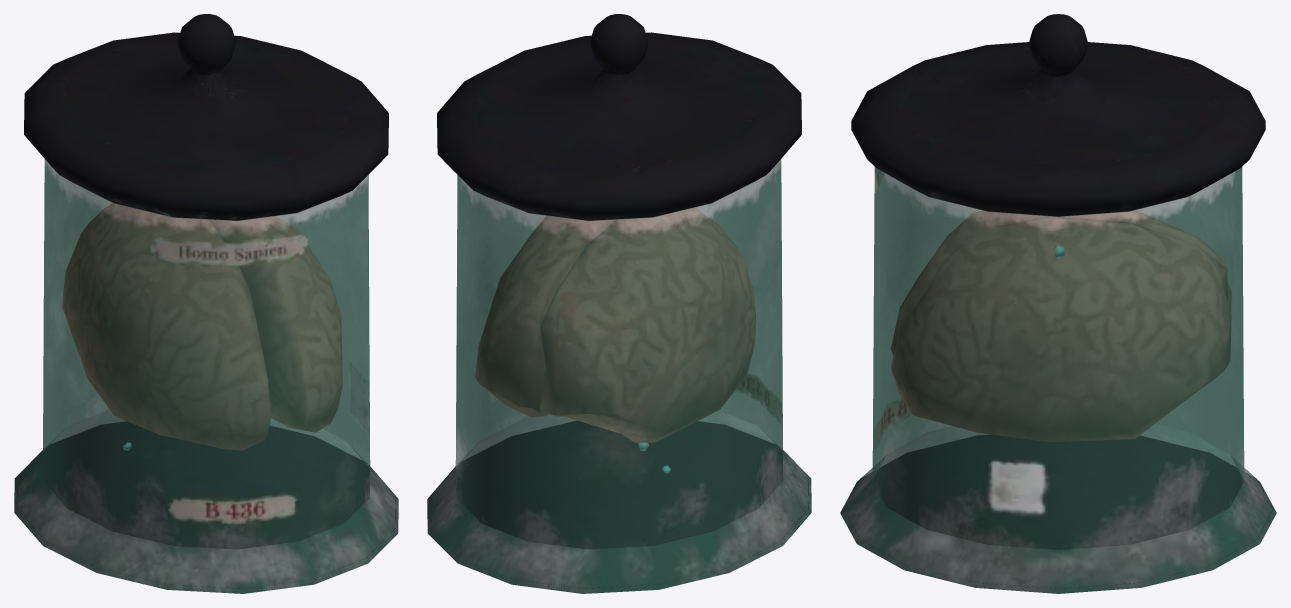
File: x_organos_brain_in_a_jar.glb
The picture shows the model from 3 angles, left to right: view 1: azimuth 30°, elevation 25°; view 2: azimuth 150°, elevation 25°; view 3: azimuth 270°, elevation 25°; orthographic projection.
Visible parts, largest first — view 1: defaultMaterial; view 2: defaultMaterial; view 3: defaultMaterial.
Boxes of the visible parts, x1=… form: defaultMaterial: x1=14, y1=14, x2=398, y2=593; defaultMaterial: x1=427, y1=14, x2=811, y2=593; defaultMaterial: x1=840, y1=14, x2=1276, y2=593.
Size of the model in its own units: 0.2093 by 0.3 by 0.2385.
Materials: 1 (1 with a texture image).
